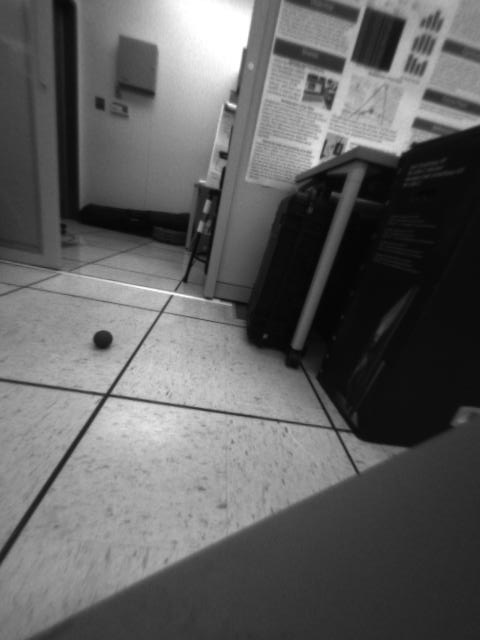dogtoy: (84, 325, 124, 356)
